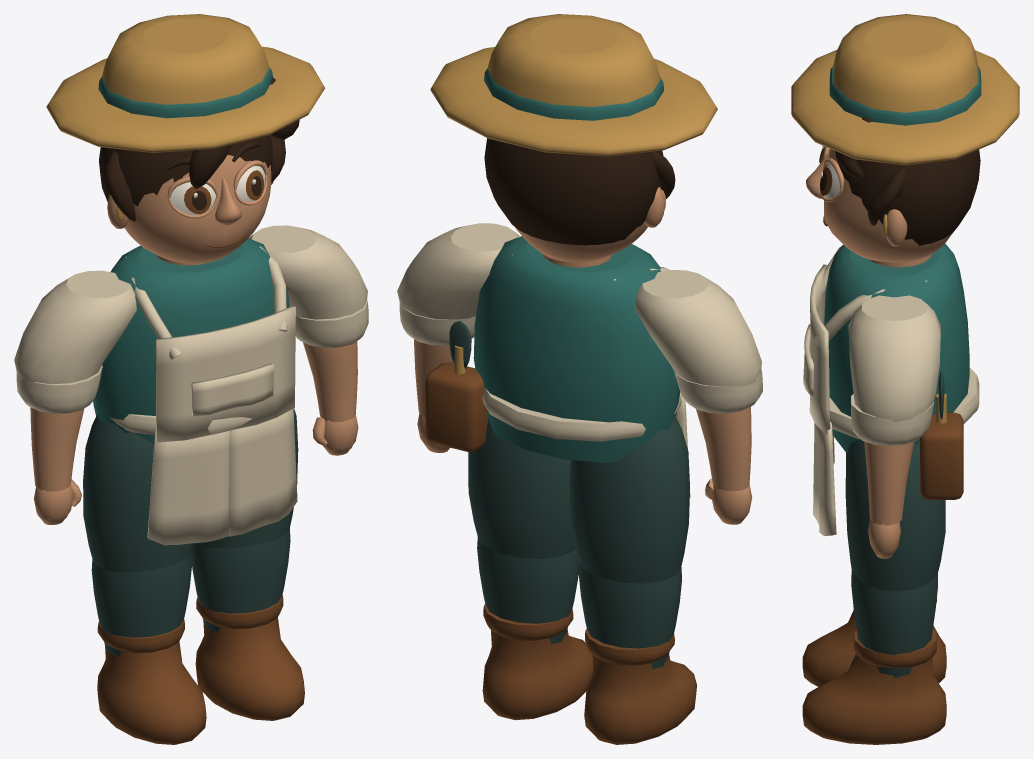
Rendered from world01-gardener-v1.glb.
3 views of the same model, side by side, from view 1: azimuth 30°, elevation 25°; view 2: azimuth 150°, elevation 25°; view 3: azimuth 270°, elevation 25° (orthographic). The views are drawn at different scales.
Parts seen in each view (by area): view 1: head-joint__MAT_ochre, hero-upper__MAT_linen, hero-upper__MAT_teal, left-shoulder__MAT_linen, left-hip__MAT_teal_dark, left-knee__MAT_leather, right-knee__MAT_leather, head-joint__MAT_skin, right-shoulder__MAT_linen, left-hip__MAT_linen, head-joint__MAT_hair, right-hip__MAT_linen (+8 smaller); view 2: hero-upper__MAT_teal, head-joint__MAT_ochre, left-hip__MAT_teal_dark, head-joint__MAT_hair, left-shoulder__MAT_linen, right-hip__MAT_teal_dark, left-knee__MAT_leather, right-knee__MAT_leather, right-shoulder__MAT_linen, left-knee__MAT_teal_dark, right-knee__MAT_teal_dark, left-elbow__MAT_skin (+6 smaller); view 3: head-joint__MAT_ochre, right-shoulder__MAT_linen, hero-upper__MAT_teal, right-knee__MAT_leather, head-joint__MAT_hair, right-hip__MAT_teal_dark, head-joint__MAT_skin, right-knee__MAT_teal_dark, hero-upper__MAT_linen, right-elbow__MAT_skin, hero-upper__MAT_leather, left-knee__MAT_leather (+2 smaller).
Boxes of the visible parts, bbox=[...] form: head-joint__MAT_ochre: bbox=[46, 14, 324, 221]; hero-upper__MAT_linen: bbox=[109, 246, 295, 442]; hero-upper__MAT_teal: bbox=[93, 238, 289, 444]; left-shoulder__MAT_linen: bbox=[14, 270, 136, 413]; left-hip__MAT_teal_dark: bbox=[83, 414, 192, 573]; left-knee__MAT_leather: bbox=[97, 619, 206, 744]; right-knee__MAT_leather: bbox=[195, 595, 304, 720]; head-joint__MAT_skin: bbox=[107, 155, 271, 265]; right-shoulder__MAT_linen: bbox=[249, 225, 368, 347]; left-hip__MAT_linen: bbox=[147, 429, 229, 545]; head-joint__MAT_hair: bbox=[99, 77, 299, 221]; right-hip__MAT_linen: bbox=[229, 408, 297, 536]; hero-upper__MAT_teal: bbox=[473, 236, 680, 462]; head-joint__MAT_ochre: bbox=[430, 14, 717, 209]; left-hip__MAT_teal_dark: bbox=[569, 416, 689, 583]; head-joint__MAT_hair: bbox=[484, 138, 675, 245]; left-shoulder__MAT_linen: bbox=[635, 270, 762, 413]; right-hip__MAT_teal_dark: bbox=[468, 418, 575, 558]; left-knee__MAT_leather: bbox=[584, 629, 696, 744]; right-knee__MAT_leather: bbox=[482, 604, 593, 720]; right-shoulder__MAT_linen: bbox=[397, 223, 519, 345]; left-knee__MAT_teal_dark: bbox=[578, 562, 681, 668]; right-knee__MAT_teal_dark: bbox=[477, 537, 579, 644]; left-elbow__MAT_skin: bbox=[696, 407, 752, 524]; head-joint__MAT_ochre: bbox=[791, 14, 1019, 236]; right-shoulder__MAT_linen: bbox=[848, 295, 940, 446]; hero-upper__MAT_teal: bbox=[824, 243, 969, 452]; right-knee__MAT_leather: bbox=[802, 628, 946, 744]; head-joint__MAT_hair: bbox=[819, 117, 980, 245]; right-hip__MAT_teal_dark: bbox=[845, 440, 945, 591]; head-joint__MAT_skin: bbox=[806, 147, 952, 267]; right-knee__MAT_teal_dark: bbox=[851, 570, 937, 677]; hero-upper__MAT_linen: bbox=[803, 246, 979, 439]; right-elbow__MAT_skin: bbox=[864, 441, 913, 558]; hero-upper__MAT_leather: bbox=[920, 412, 963, 499]; left-knee__MAT_leather: bbox=[802, 599, 946, 686].
Bounding box in the file's own units: 1.11 × 2.05 × 0.6359.
